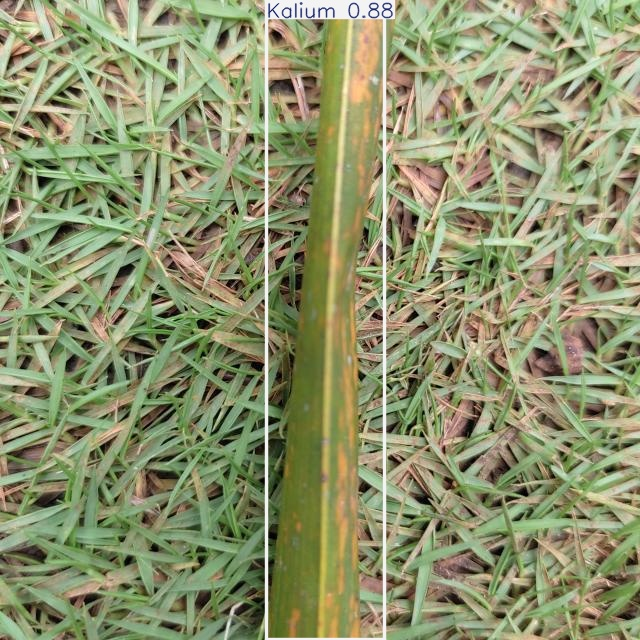Kalium: (267, 0, 385, 640)
